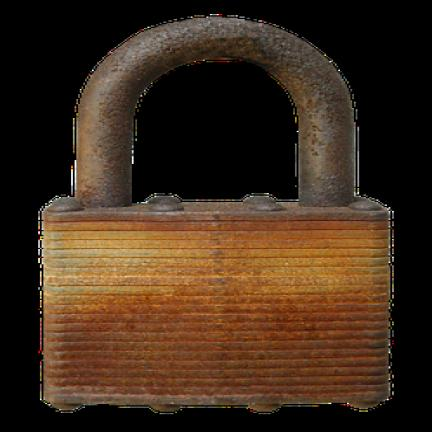karat: (44, 18, 390, 411)
